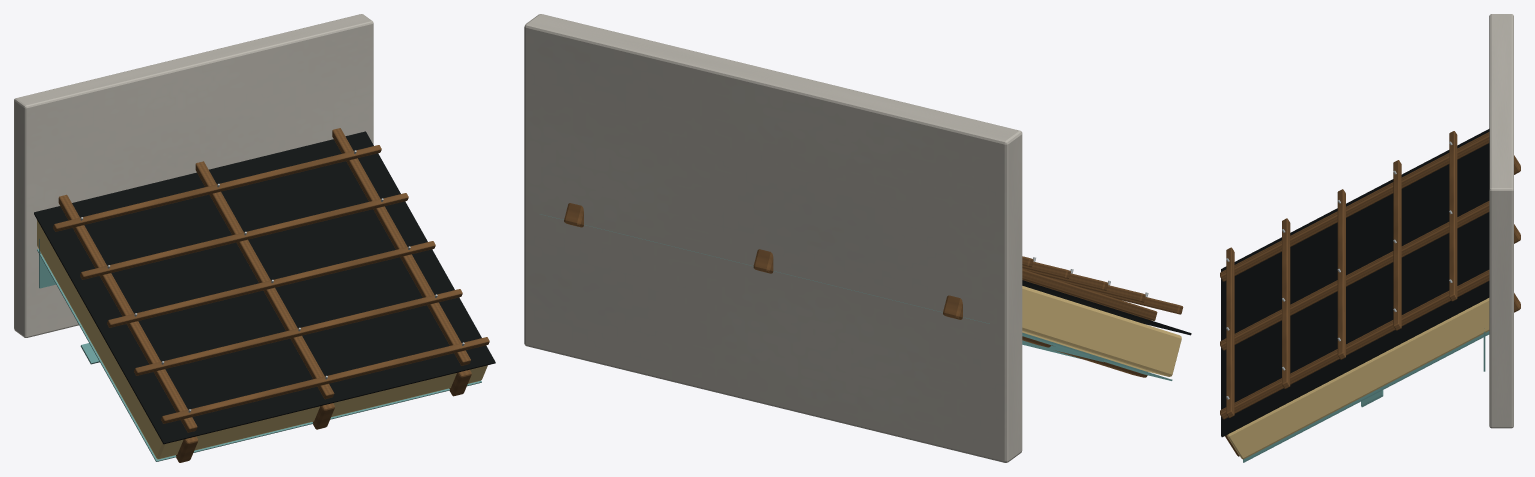
The model's file is modell.glb.
The picture shows the model from 3 angles, left to right: view 1: azimuth 30°, elevation 25°; view 2: azimuth 150°, elevation 25°; view 3: azimuth 270°, elevation 25°; orthographic projection. The views are drawn at different scales.
Parts seen in each view (by area): view 1: g04-zusatzebene_zusatzebene, g04-wand_, g04-lattung_lattung, g04-daemmung_daemmung, g04-luftdichtheit_luftdichtheit, g04-sparren_tragwerk; view 2: g04-wand_, g04-daemmung_daemmung, g04-lattung_lattung, g04-sparren_tragwerk, g04-luftdichtheit_luftdichtheit, g04-zusatzebene_zusatzebene; view 3: g04-zusatzebene_zusatzebene, g04-lattung_lattung, g04-wand_, g04-daemmung_daemmung, g04-luftdichtheit_luftdichtheit, g04-sparren_tragwerk.
Boxes of the visible parts, left/top/right/bottom form: g04-zusatzebene_zusatzebene: left=34, top=131, right=495, bottom=444; g04-wand_: left=14, top=14, right=373, bottom=337; g04-lattung_lattung: left=53, top=128, right=489, bottom=432; g04-daemmung_daemmung: left=37, top=220, right=487, bottom=459; g04-luftdichtheit_luftdichtheit: left=37, top=249, right=481, bottom=461; g04-sparren_tragwerk: left=176, top=369, right=471, bottom=462; g04-wand_: left=524, top=14, right=1022, bottom=462; g04-daemmung_daemmung: left=1022, top=286, right=1181, bottom=376; g04-lattung_lattung: left=1022, top=256, right=1183, bottom=320; g04-sparren_tragwerk: left=564, top=203, right=1147, bottom=377; g04-luftdichtheit_luftdichtheit: left=540, top=214, right=1172, bottom=380; g04-zusatzebene_zusatzebene: left=1022, top=280, right=1191, bottom=335; g04-zusatzebene_zusatzebene: left=1221, top=129, right=1489, bottom=437; g04-lattung_lattung: left=1220, top=131, right=1489, bottom=419; g04-wand_: left=1489, top=14, right=1513, bottom=428; g04-daemmung_daemmung: left=1227, top=298, right=1489, bottom=459; g04-luftdichtheit_luftdichtheit: left=1243, top=331, right=1489, bottom=462; g04-sparren_tragwerk: left=1225, top=155, right=1520, bottom=456.
Size of the model in its own units: 2.2 by 1.66 by 1.59.
6 materials, 2 textured.
